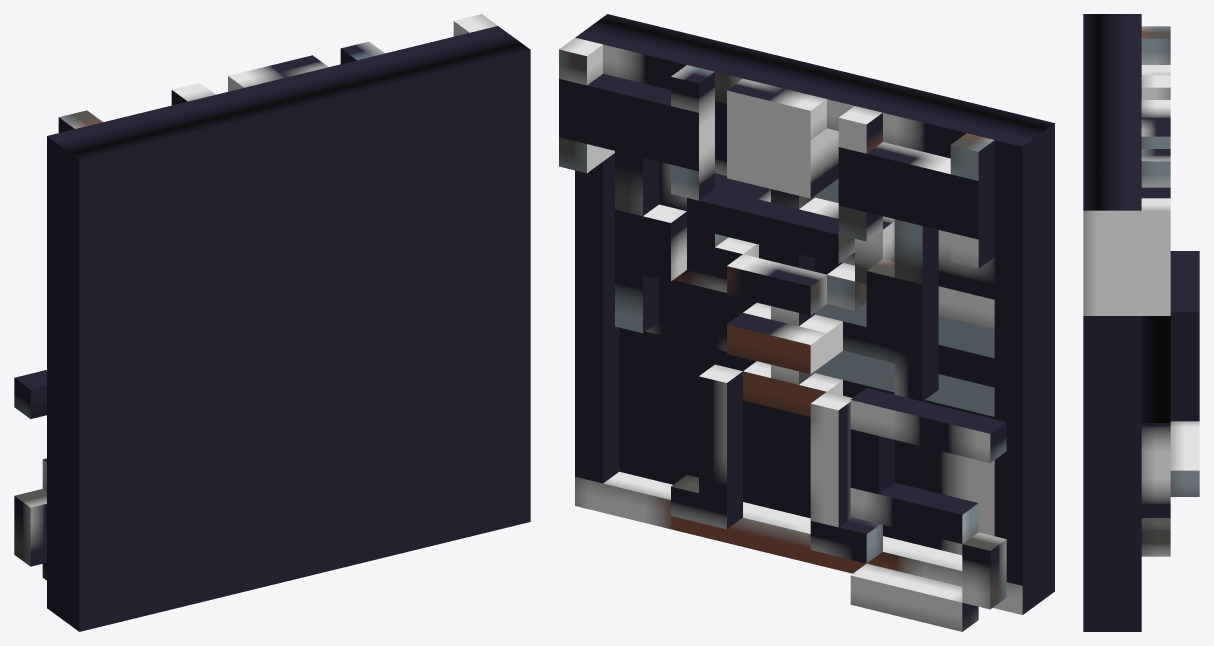
File: skel1.fbx
3 views of the same model, side by side, from view 1: azimuth 30°, elevation 25°; view 2: azimuth 150°, elevation 25°; view 3: azimuth 270°, elevation 25° (orthographic). The views are drawn at different scales.
Parts seen in each view (by area): view 1: skel1; view 2: skel1; view 3: skel1.
Part boxes in pixels (x1,y1,x2,y2): skel1: [14, 14, 530, 631]; skel1: [559, 14, 1054, 631]; skel1: [1083, 14, 1199, 631].
Bounding box in the file's own units: 16 × 16 × 4.
